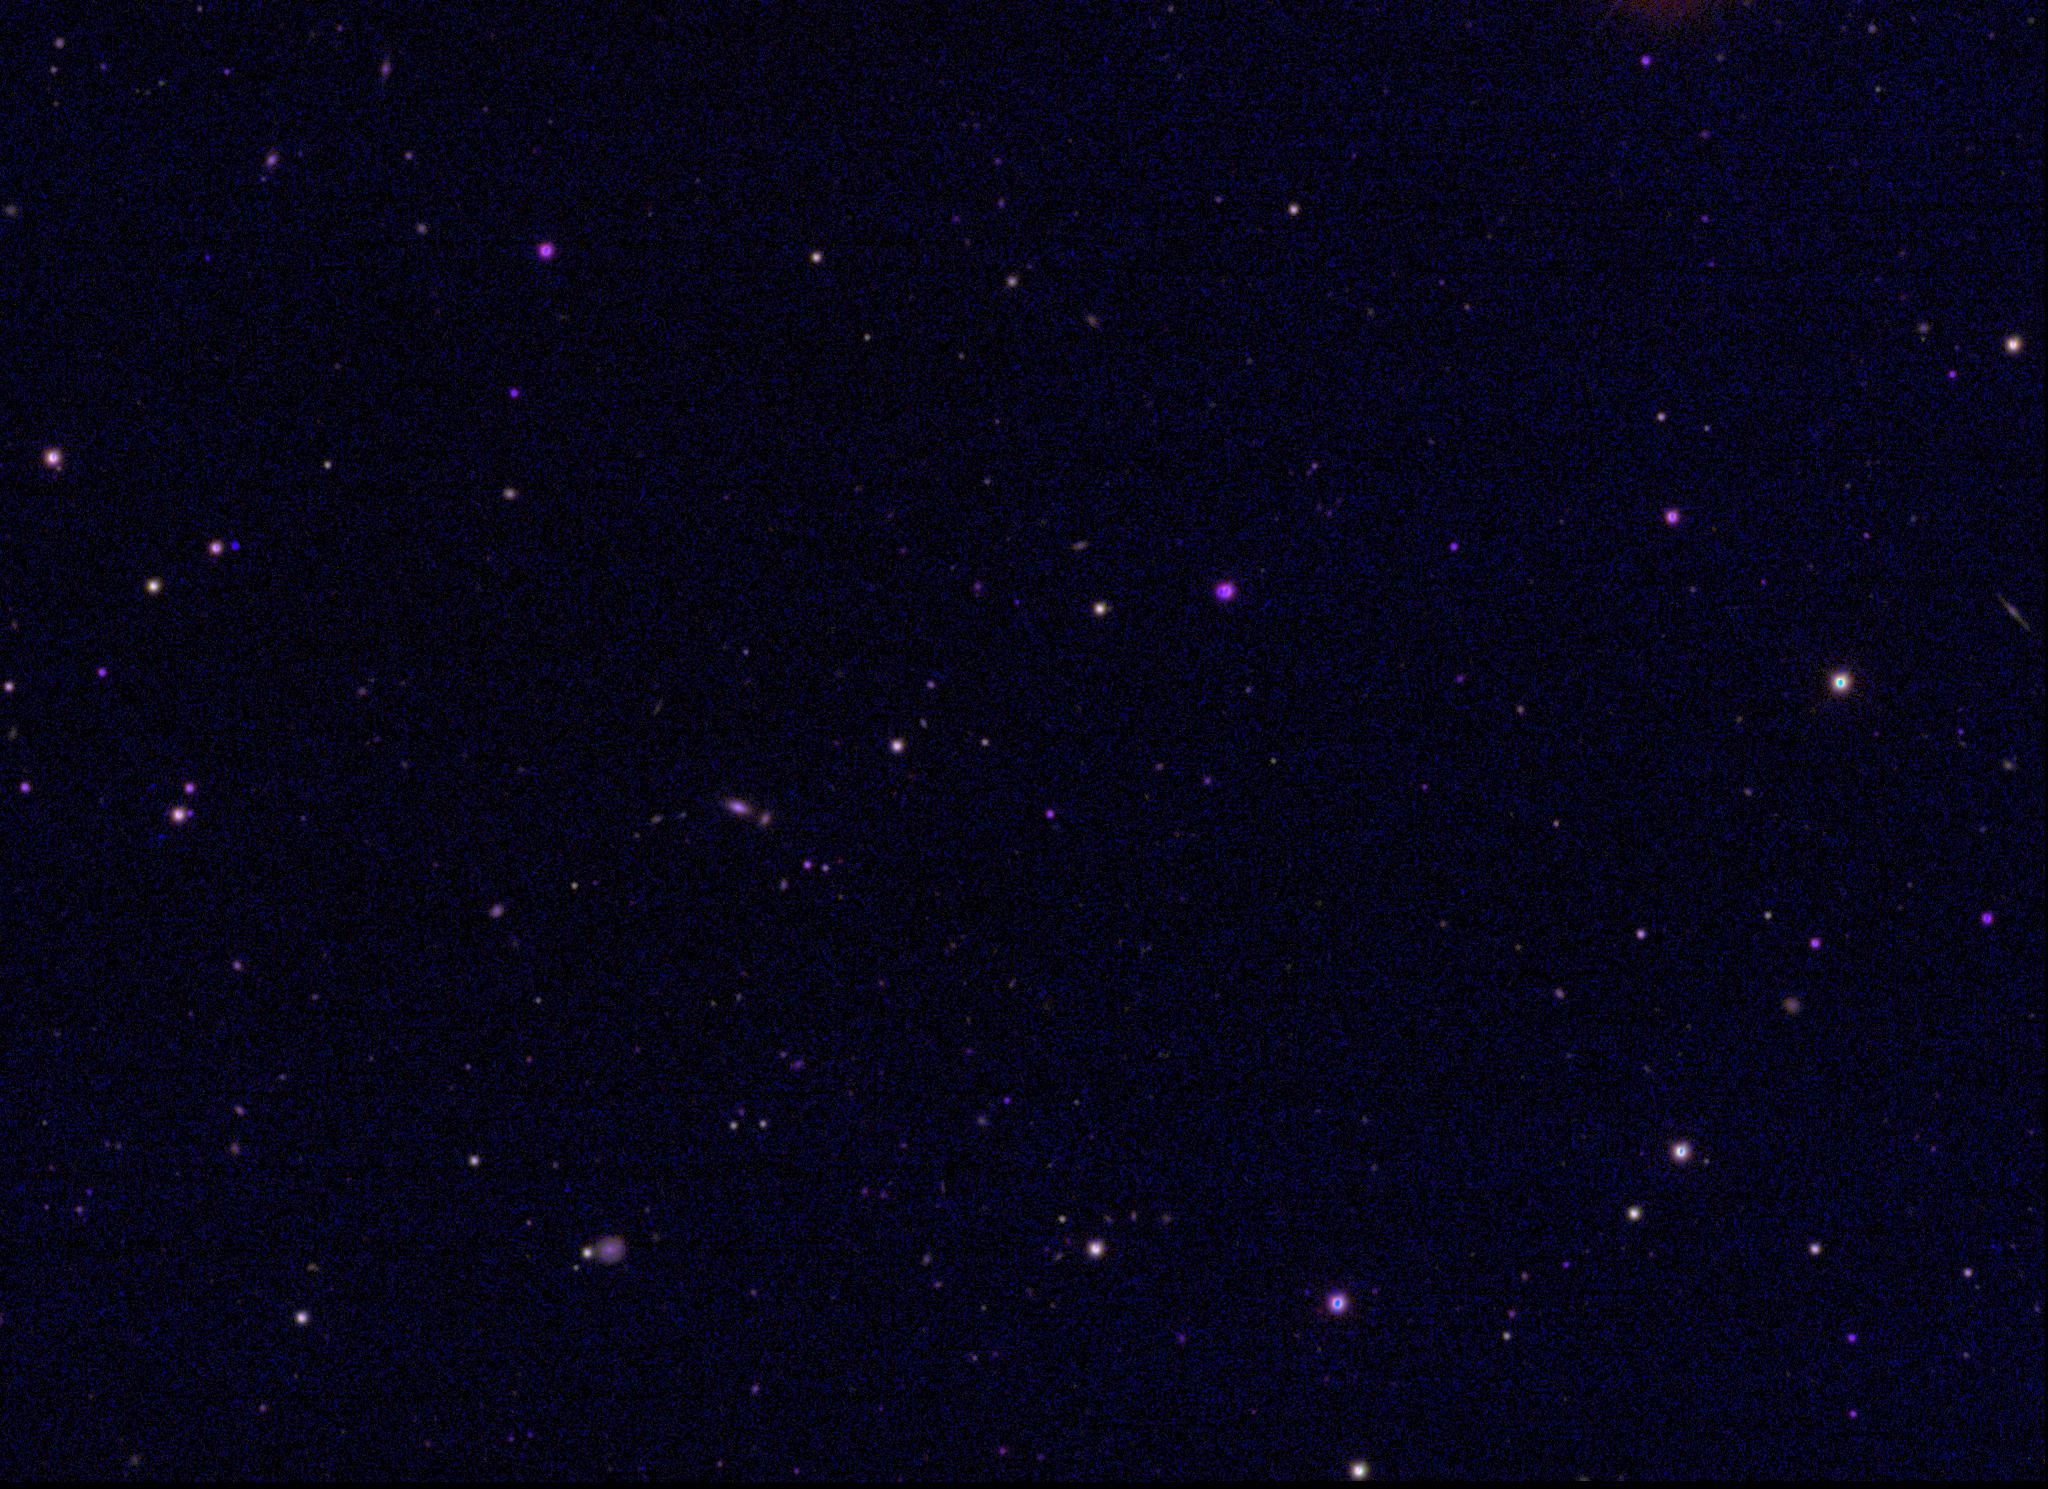L: (227, 536, 242, 550)
